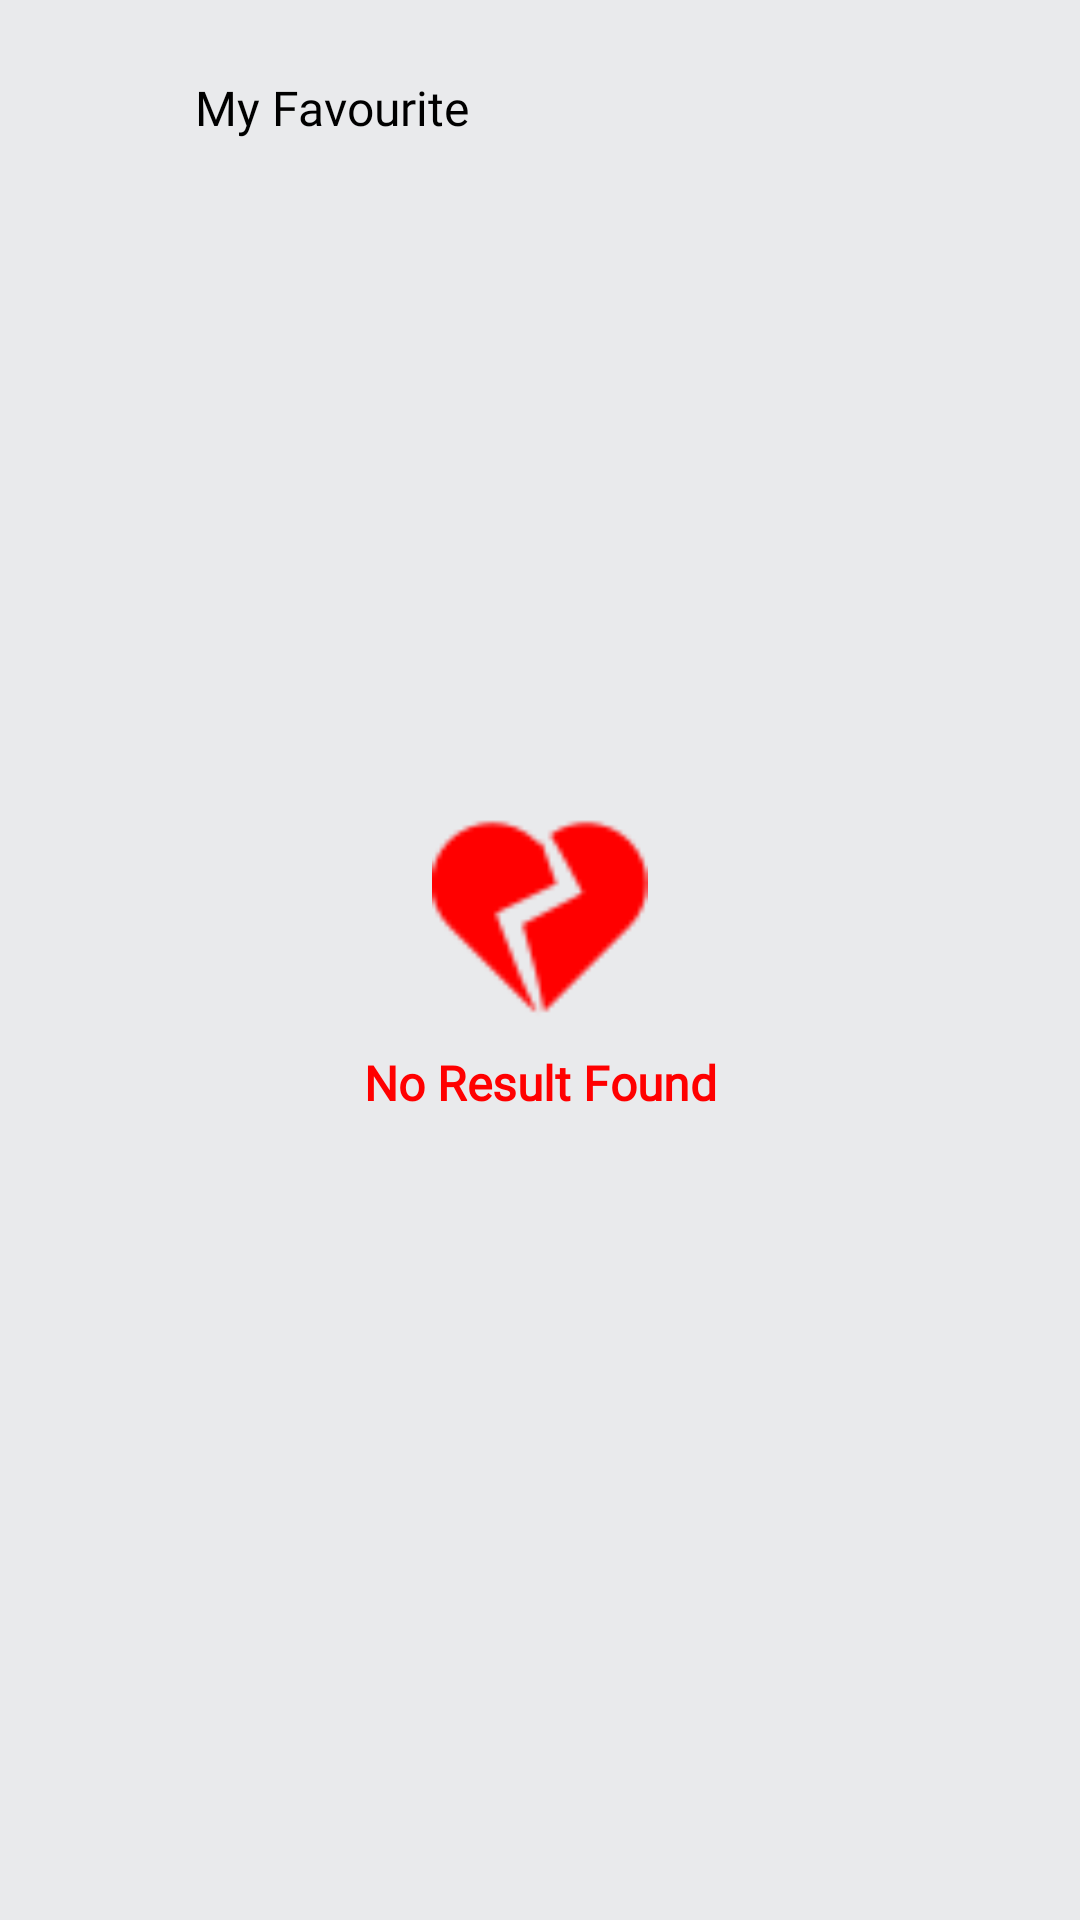

Screen size 1080px x 1920px. Icon name, then its box in pixels as (x1, y1, x2, y2):
heartbroke: (432, 820, 648, 1012)
